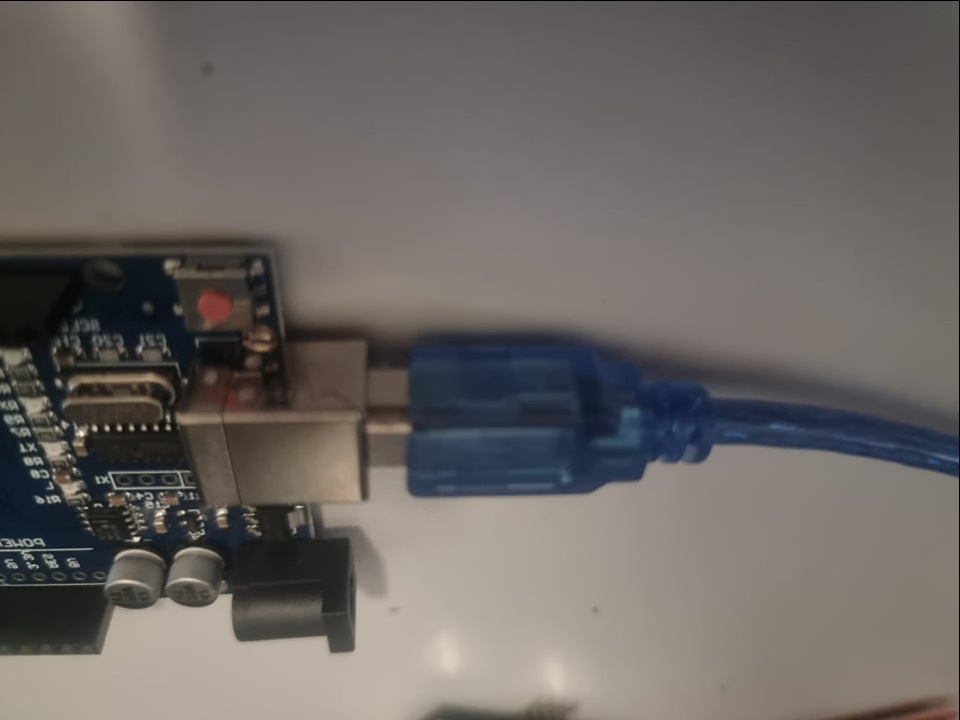UNO R3: (1, 217, 373, 657)
